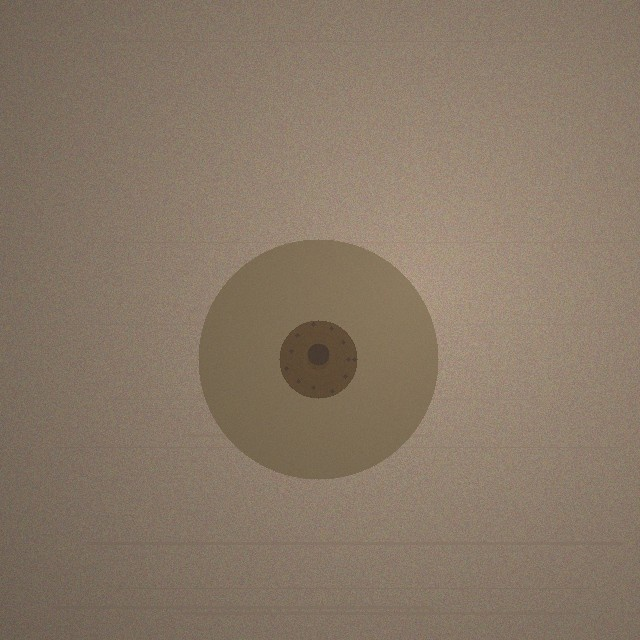cold_weld: (198, 239, 438, 479)
